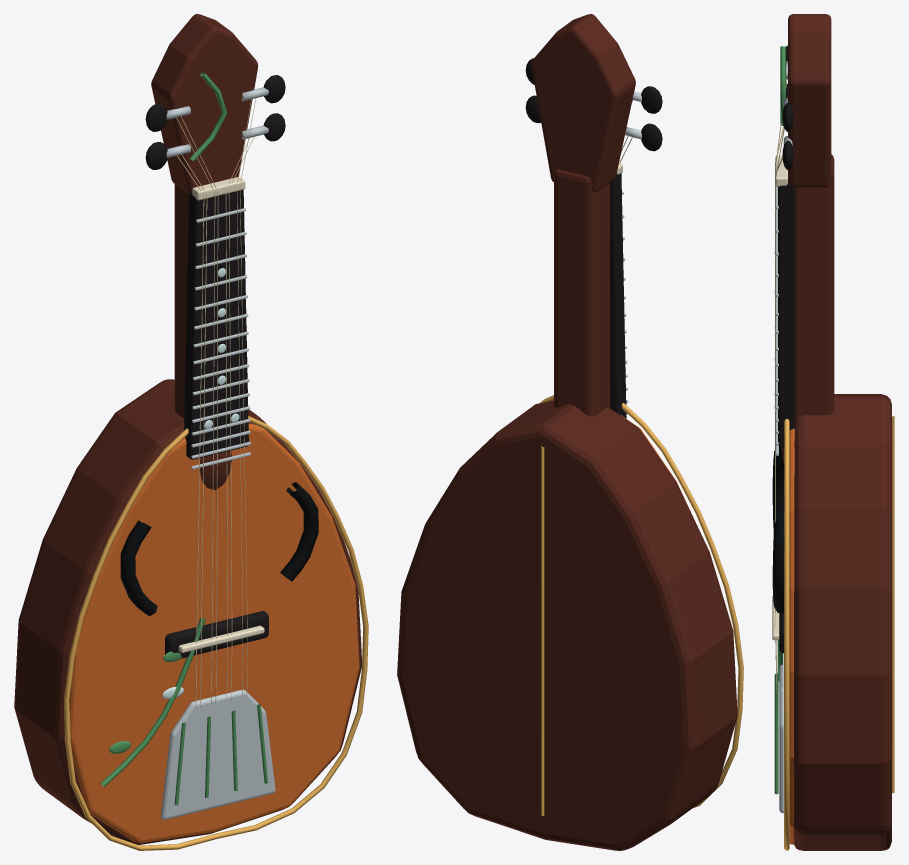
File: rashin-bramble-a-mandolin-hero.glb
3 renders of one model, left to right at view 1: azimuth 30°, elevation 25°; view 2: azimuth 150°, elevation 25°; view 3: azimuth 270°, elevation 25°, orthographic. The views are drawn at different scales.
Visible parts, largest first — view 1: bramble_bookmatched_top, bramble_body_shell, bramble_fingerboard, bramble_headstock, bramble_fan_tailpiece, bramble_front_binding, bramble_neck_core, bramble_floating_bridge_base, bramble_sound_slot_right, bramble_sound_slot_left, bramble_vine_inlay, bramble_neck_heel (+9 smaller); view 2: bramble_body_shell, bramble_neck_core, bramble_headstock, bramble_fingerboard, bramble_front_binding, bramble_back_center_seam; view 3: bramble_body_shell, bramble_neck_core, bramble_headstock, bramble_fingerboard, bramble_front_binding, bramble_bookmatched_top, bramble_back_center_seam, bramble_sound_slot_right, bramble_fan_tailpiece, bramble_sound_slot_left, bramble_course_3_string_1, bramble_tailpiece_fan_3 (+6 smaller).
Boxes of the visible parts, x1,y1,x2,y2 form: bramble_bookmatched_top: (69,423,359,843); bramble_body_shell: (14,379,361,844); bramble_fingerboard: (184,189,248,459); bramble_headstock: (151,14,258,193); bramble_fan_tailpiece: (161,690,275,819); bramble_front_binding: (64,416,368,850); bramble_neck_core: (174,184,188,418); bramble_floating_bridge_base: (165,611,268,658); bramble_sound_slot_right: (280,482,318,581); bramble_sound_slot_left: (120,520,157,616); bramble_vine_inlay: (101,618,205,786); bramble_neck_heel: (199,450,231,490); bramble_body_shell: (397,400,737,850); bramble_neck_core: (554,169,609,416); bramble_headstock: (531,14,635,192); bramble_fingerboard: (610,173,626,418); bramble_front_binding: (539,395,743,807); bramble_back_center_seam: (541,445,544,815); bramble_body_shell: (793,394,891,850); bramble_neck_core: (795,154,834,419); bramble_headstock: (788,14,831,187); bramble_fingerboard: (778,181,795,447); bramble_front_binding: (784,419,789,850); bramble_bookmatched_top: (789,428,794,844); bramble_back_center_seam: (892,416,894,793); bramble_sound_slot_right: (772,521,783,612); bramble_fan_tailpiece: (779,664,783,813); bramble_sound_slot_left: (772,447,783,531); bramble_course_3_string_1: (775,129,784,693); bramble_tailpiece_fan_3: (774,710,778,794).
Bounding box in the file's own units: 0.278 × 0.7147 × 0.0966.
